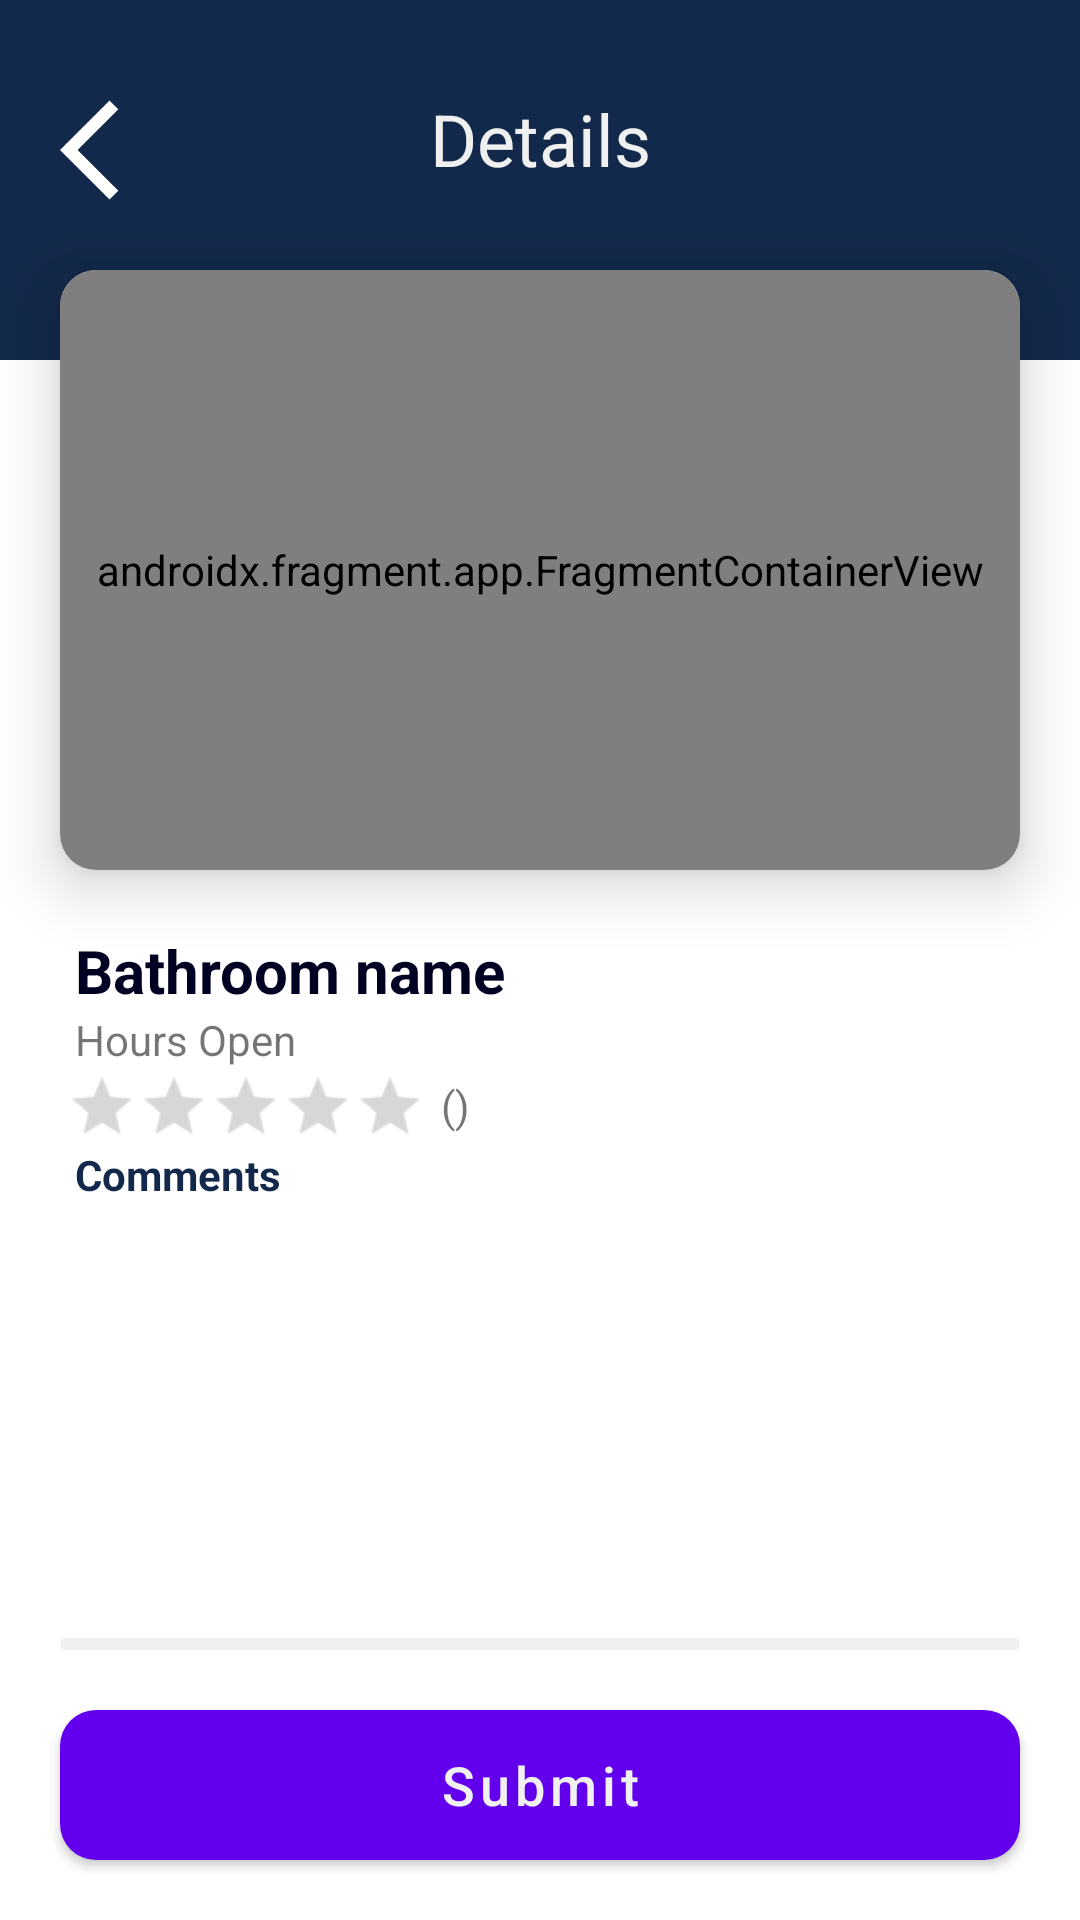

Named icons in this screenshot (1080 x 1920) and their bounding boxes, (x1, y1, x2, y2):
Back: (60, 100, 118, 200)
